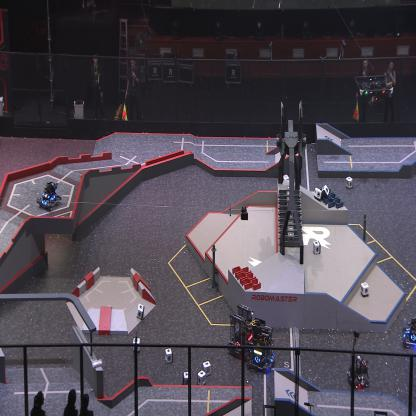car: (246, 317, 276, 373), (227, 302, 254, 358), (346, 354, 371, 390), (36, 178, 62, 210), (401, 316, 416, 350)
